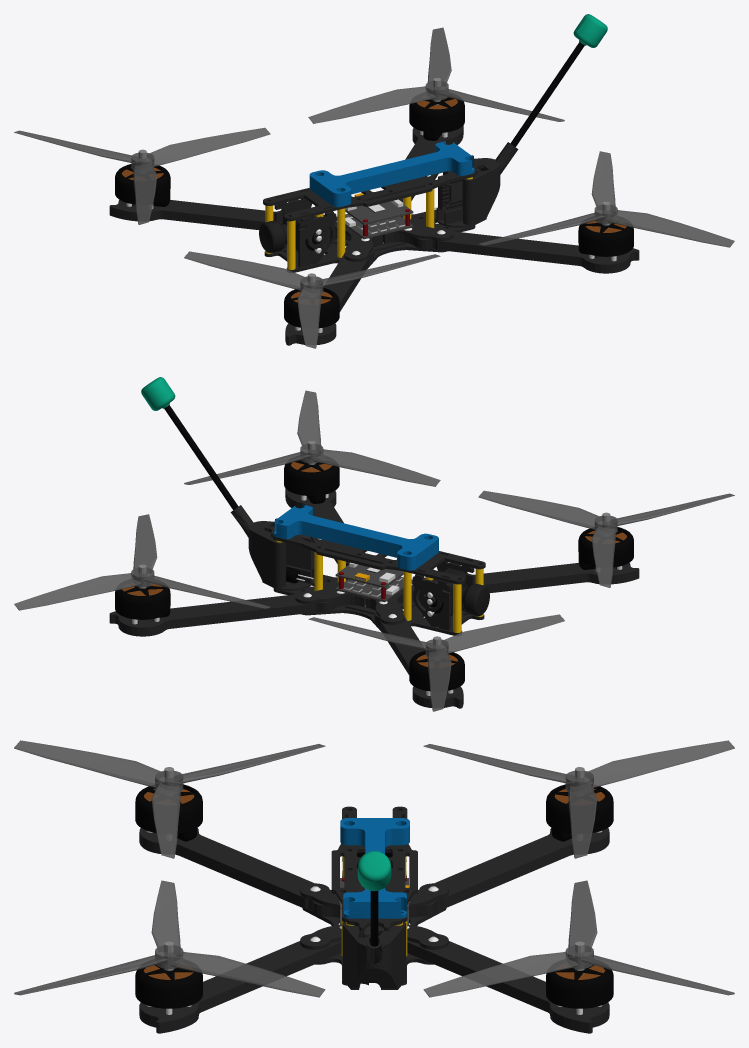
The model's file is Сборка_цвет.fbx.
The picture shows the model from 3 angles, top to bottom: view 1: azimuth 30°, elevation 25°; view 2: azimuth 150°, elevation 25°; view 3: azimuth 270°, elevation 25°; orthographic projection. The views are drawn at different scales.
Parts seen in each view (by area): view 1: пропеллер, корпус-4 стрелы, Ротор, Основание, корпус-верх, корпус-для антенны, корпус-для камеры.001, корпус-низ, Антенна, корпус-цилиндры, корпус-крестовина, Камера (+3 smaller); view 2: пропеллер, корпус-4 стрелы, Ротор, Основание, корпус-верх, корпус-для антенны, корпус-для камеры.001, корпус-низ, Антенна, корпус-цилиндры, корпус-крестовина, Камера (+3 smaller); view 3: пропеллер, корпус-4 стрелы, Ротор, корпус-для антенны, Основание, корпус-верх, корпус-крестовина, Антенна, корпус-низ.
Part boxes in pixels (<box>): пропеллер: <box>14,27,734,348</box>; корпус-4 стрелы: <box>109,125,639,345</box>; Ротор: <box>115,78,633,328</box>; Основание: <box>309,141,474,207</box>; корпус-верх: <box>263,155,484,221</box>; корпус-для антенны: <box>434,142,518,227</box>; корпус-для камеры.001: <box>274,198,336,267</box>; корпус-низ: <box>264,209,475,272</box>; Антенна: <box>510,14,607,146</box>; корпус-цилиндры: <box>265,177,472,269</box>; корпус-крестовина: <box>323,198,453,261</box>; Камера: <box>259,205,316,253</box>; пропеллер: <box>14,390,734,711</box>; корпус-4 стрелы: <box>109,488,639,708</box>; Ротор: <box>115,441,633,691</box>; Основание: <box>274,504,438,570</box>; корпус-верх: <box>264,518,485,584</box>; корпус-для антенны: <box>230,505,314,590</box>; корпус-для камеры.001: <box>412,561,474,630</box>; корпус-низ: <box>273,574,484,635</box>; Антенна: <box>141,377,238,509</box>; корпус-цилиндры: <box>276,540,483,632</box>; корпус-крестовина: <box>295,561,425,624</box>; Камера: <box>432,568,489,616</box>; пропеллер: <box>14,740,734,997</box>; корпус-4 стрелы: <box>139,828,609,1033</box>; Ротор: <box>135,767,613,1008</box>; корпус-для антенны: <box>342,922,406,989</box>; Основание: <box>340,818,409,918</box>; корпус-верх: <box>331,806,417,931</box>; корпус-крестовина: <box>300,883,448,949</box>; Антенна: <box>357,851,391,946</box>; корпус-низ: <box>302,876,446,985</box>.
Size of the model in its own units: 31487 by 11739 by 36295.
